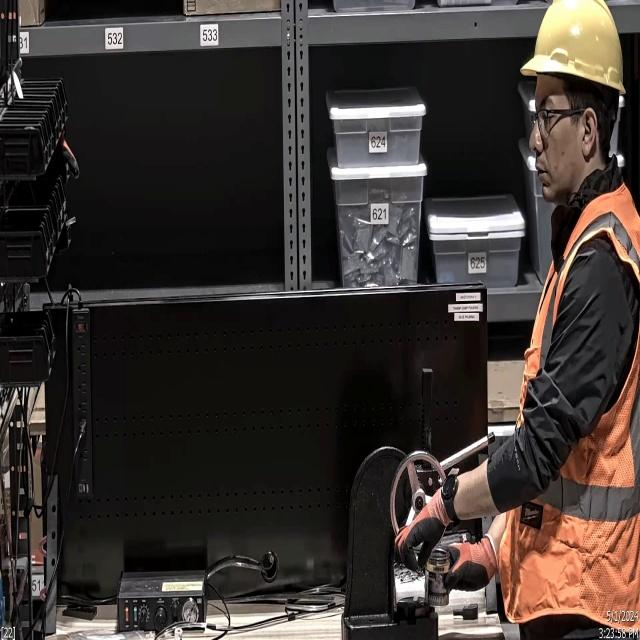construction-gloves: (386, 474, 462, 576)
